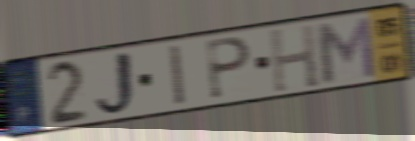2: (46, 57, 88, 127)
H: (267, 22, 321, 95)
I: (167, 42, 189, 109)
J: (92, 48, 140, 119)
M: (313, 14, 379, 86)
P: (205, 35, 253, 102)
